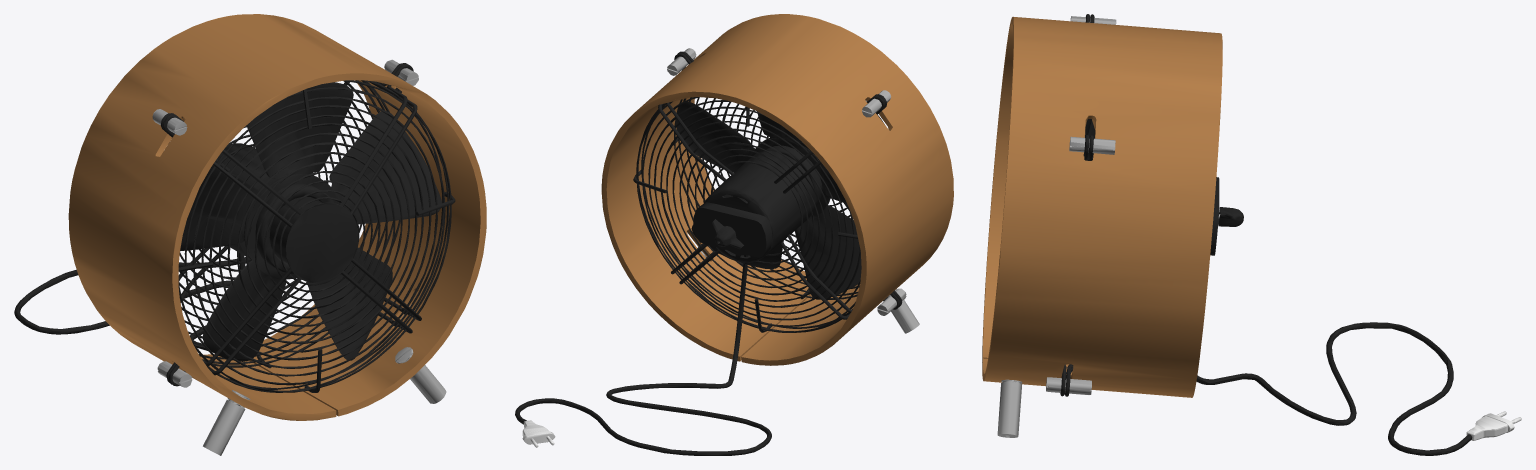
Rendered from fan.glb.
3 views of the same model, side by side, from view 1: azimuth 30°, elevation 25°; view 2: azimuth 150°, elevation 25°; view 3: azimuth 270°, elevation 25° (orthographic). The views are drawn at different scales.
Visible parts, largest first — view 1: Back_cover; view 2: Back_cover; view 3: Back_cover.
Boxes of the visible parts, bbox=[...] form: Back_cover: bbox=[14, 14, 486, 455]; Back_cover: bbox=[515, 14, 953, 455]; Back_cover: bbox=[982, 14, 1521, 455].
Bounding box in the file's own units: 0.3454 × 0.3667 × 0.5096.
